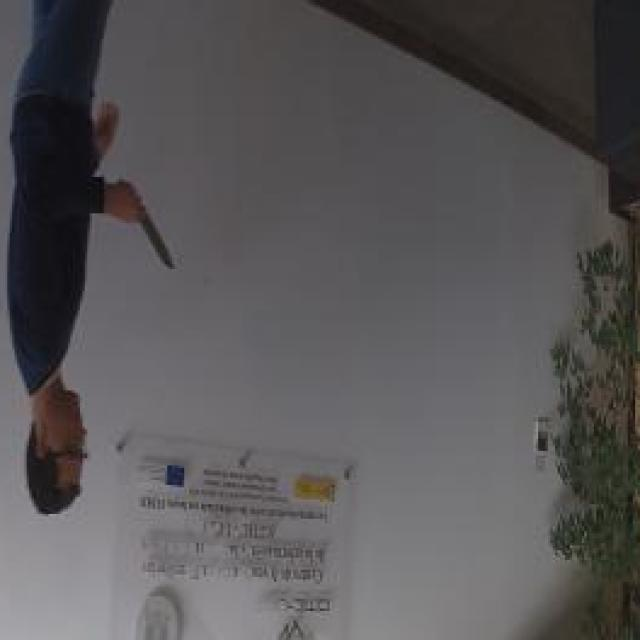knife: (118, 174, 177, 274)
